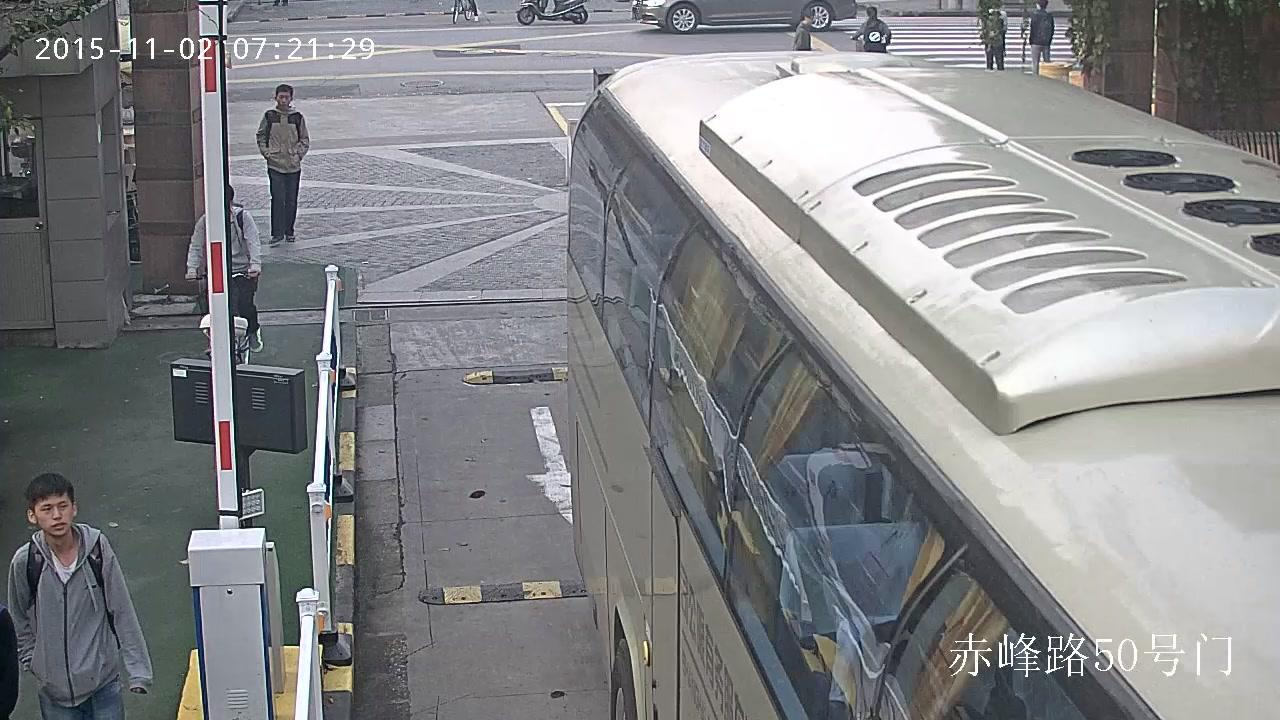person: (7, 472, 152, 720), (184, 184, 262, 364), (185, 184, 262, 352), (256, 83, 310, 247), (1027, 0, 1055, 77), (853, 6, 891, 51), (980, 6, 1004, 69), (793, 15, 813, 51)
